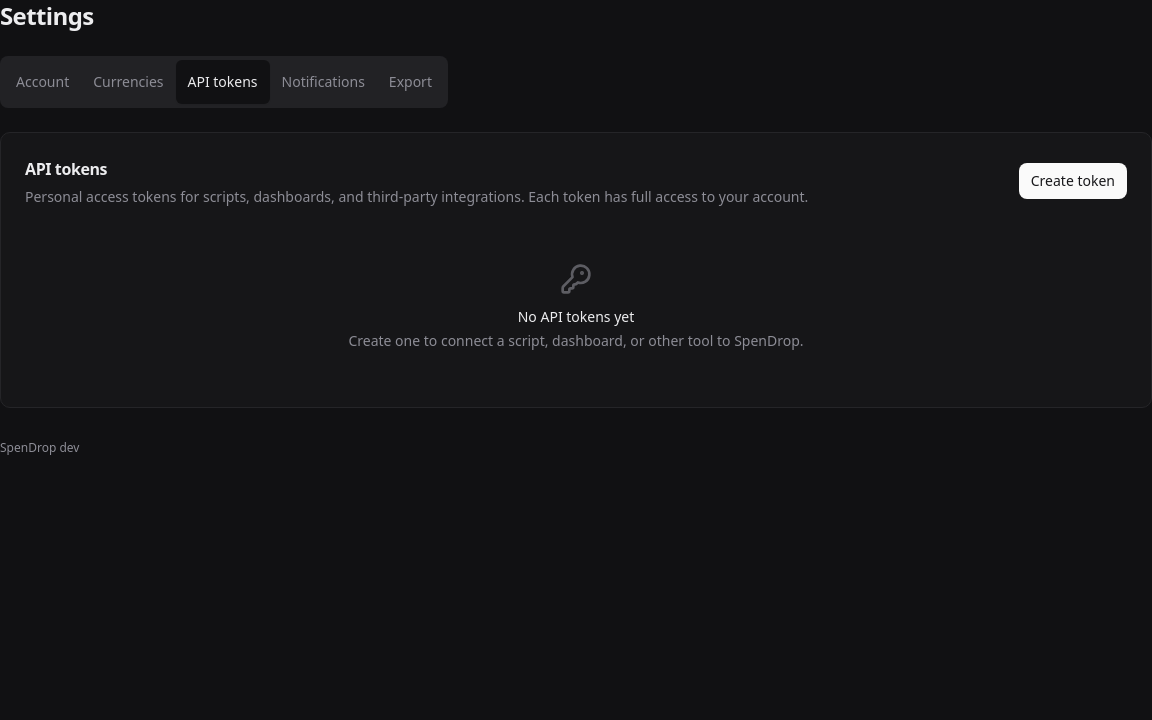
Test: ApiTokensSection › submitting create dialog shows show-once reveal (no password field)
Check: the text "No API tokens yet" is shown, box [518,307,634,326]
Step 1. Click the button "Create token" → (1073, 181), box [1019,163,1127,199]
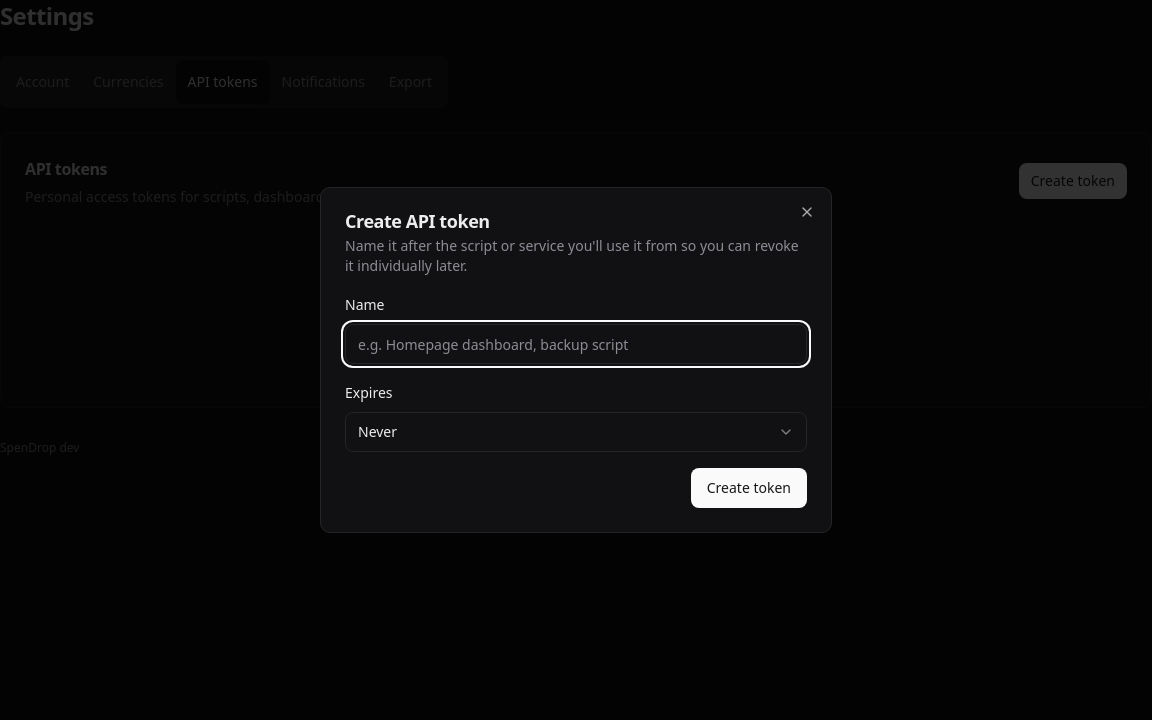
Step 2. Type "Homepage" into the field labelled "Name" → (576, 344), box [345,324,807,364]
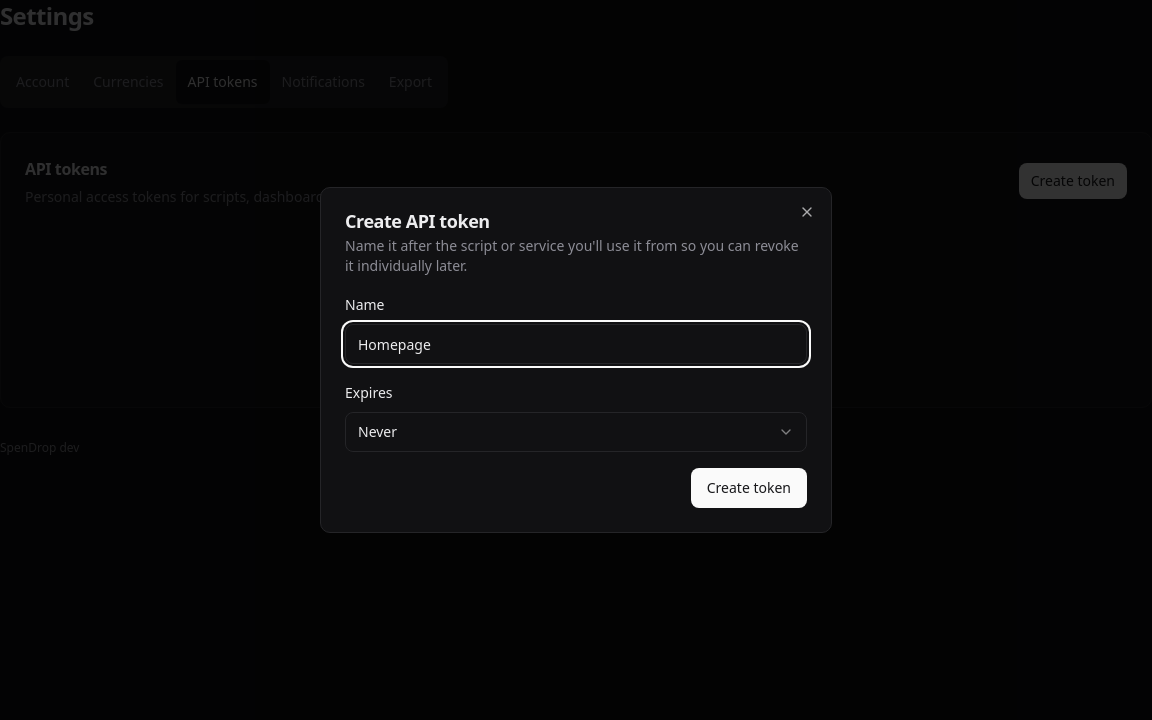
Step 3. Click the button "Create token" → (749, 488), box [691,468,807,508]
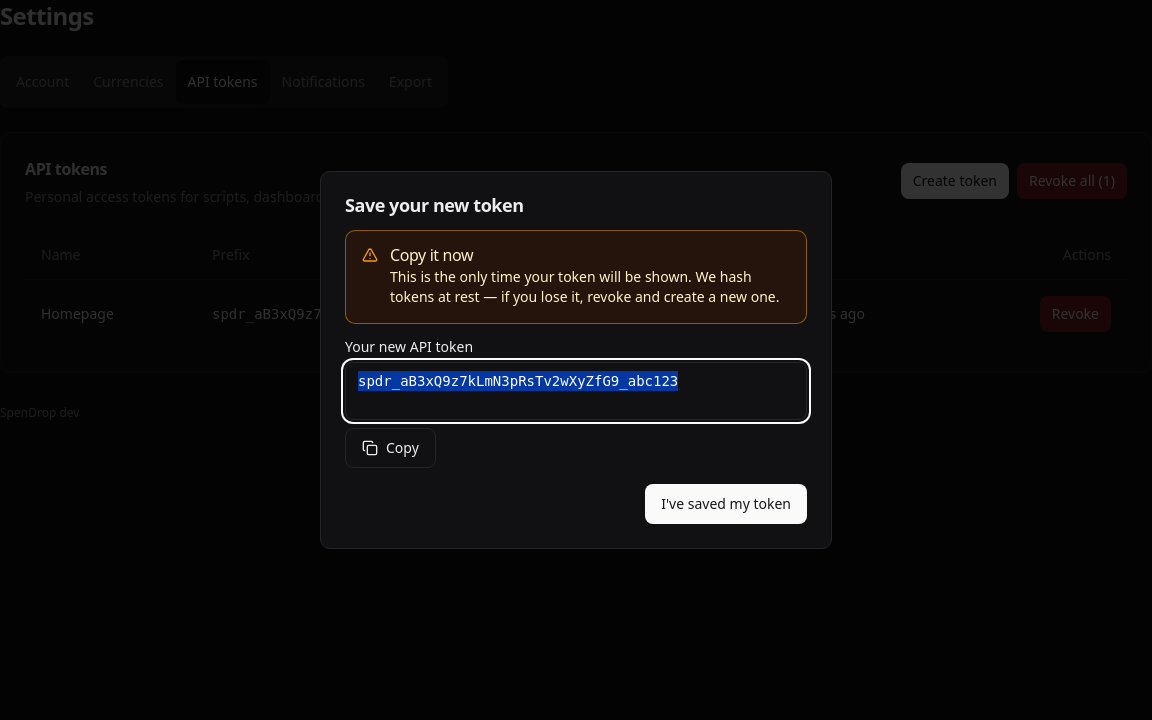
Check: the heading "Save your new token" is shown, box [345,193,524,217]
Check: the heading "Copy it now" is shown, box [390,244,473,266]
Check: the text box labelled "Your new API token" holds "spdr_aB3xQ9z7kLmN3pRsTv2wXyZfG9_abc123", box [345,362,807,420]
